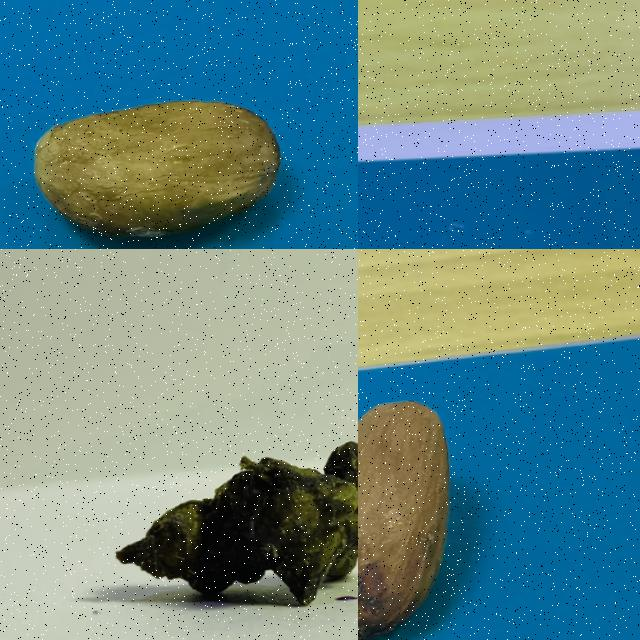Fine_cocoabeans: (0, 63, 357, 248), (358, 368, 543, 639)
Flat_cocoabeans: (54, 428, 357, 632)
